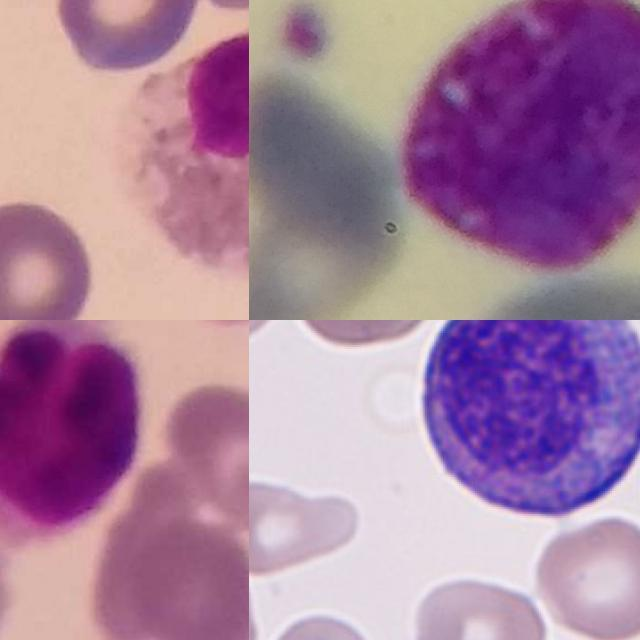Basophil: (400, 0, 640, 276)
Eosinophil: (132, 12, 249, 287)
Lymphocyte: (409, 320, 640, 534), (0, 320, 145, 554)
RBC: (530, 510, 640, 640), (249, 473, 365, 579), (404, 569, 550, 640), (284, 320, 450, 352), (258, 606, 389, 640)
